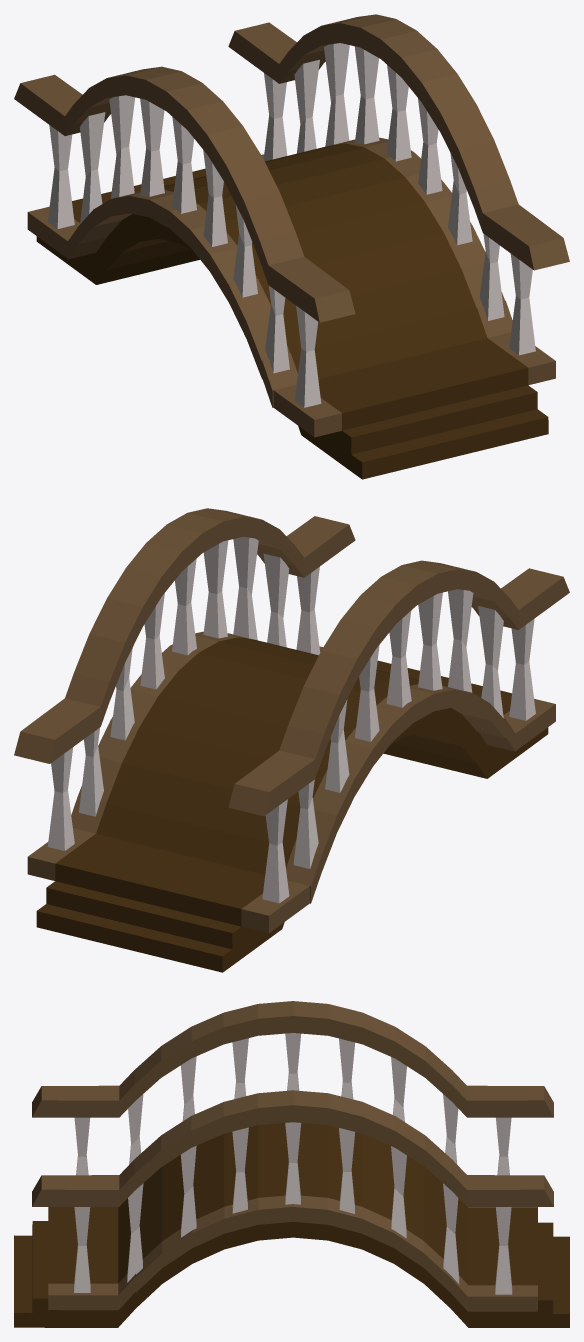
Rendered from Bridge.fbx.
The picture shows the model from 3 angles, top to bottom: view 1: azimuth 30°, elevation 25°; view 2: azimuth 150°, elevation 25°; view 3: azimuth 270°, elevation 25°; orthographic projection. The views are drawn at different scales.
Visible parts, largest first — view 1: Plane, Plane.001, Cube.007; view 2: Plane, Plane.001, Cube.007; view 3: Plane, Plane.001, Cube.007.
Part boxes in pixels (bbox=[...]): Plane: bbox=[27, 137, 555, 479]; Plane.001: bbox=[14, 14, 569, 322]; Cube.007: bbox=[47, 43, 535, 407]; Plane: bbox=[27, 631, 555, 972]; Plane.001: bbox=[14, 508, 569, 816]; Cube.007: bbox=[47, 537, 535, 903]; Plane: bbox=[14, 1123, 569, 1327]; Plane.001: bbox=[32, 1001, 553, 1206]; Cube.007: bbox=[74, 1033, 512, 1294].
Bounding box in the file's own units: 2830 × 2986 × 6377.
